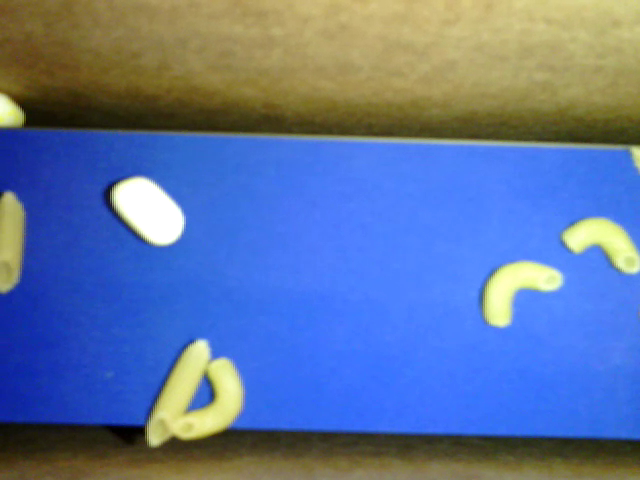elbow: (171, 358, 243, 438), (481, 261, 562, 327), (561, 217, 639, 274)
penne: (144, 338, 211, 447), (1, 191, 26, 292)
